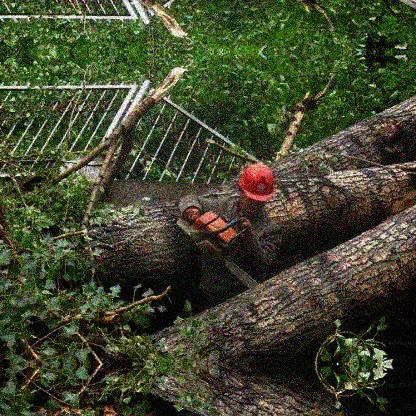helmet: (238, 162, 275, 218)
